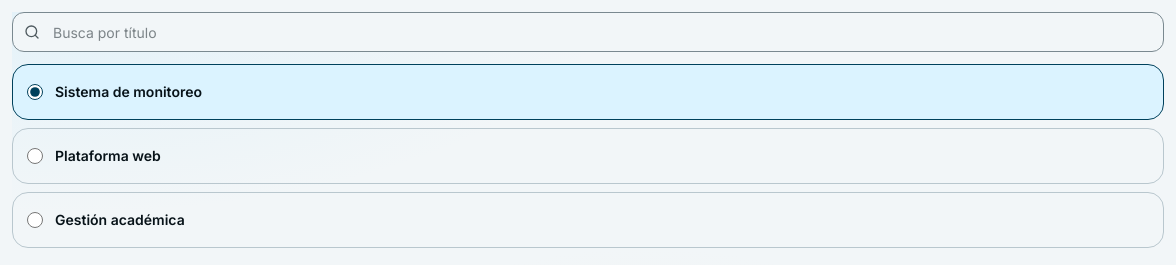
Test: ListaProyectosElegibles › filtra sin distinguir mayúsculas ni tildes y conserva la opción elegida
In the field with placeholder "Busca por título": point(588, 32) top-left (12, 12), bottom-right (1164, 52), type "GESTION"
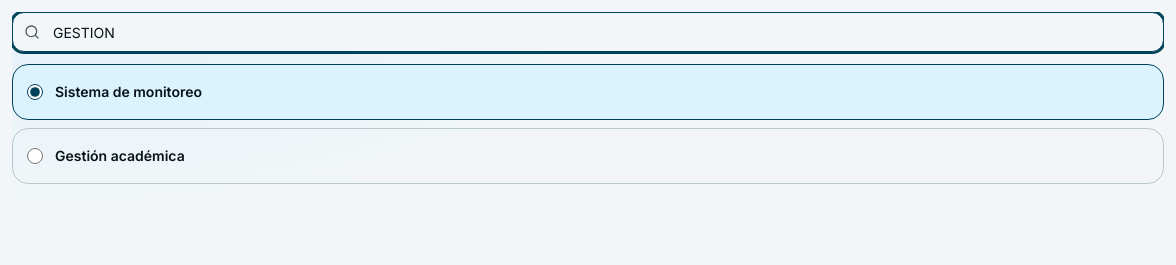
Check: the radio button labelled "Gestión académica" is shown, box top-left (27, 148), bottom-right (43, 164)
Check: the text "Plataforma web" is gone
